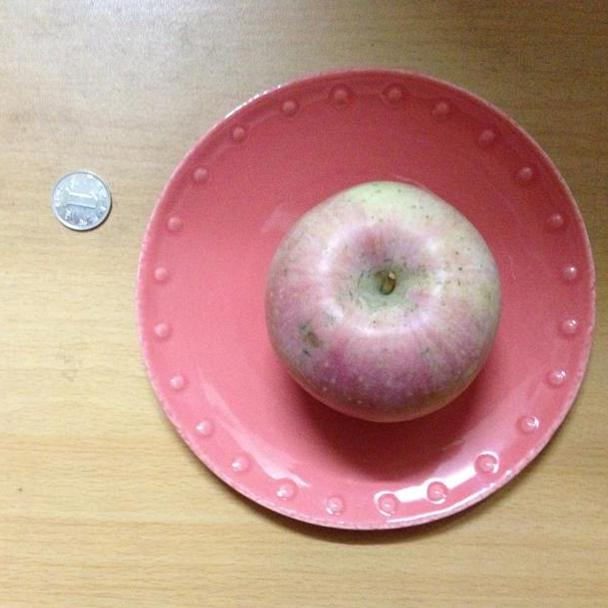apple: (264, 181, 507, 430)
